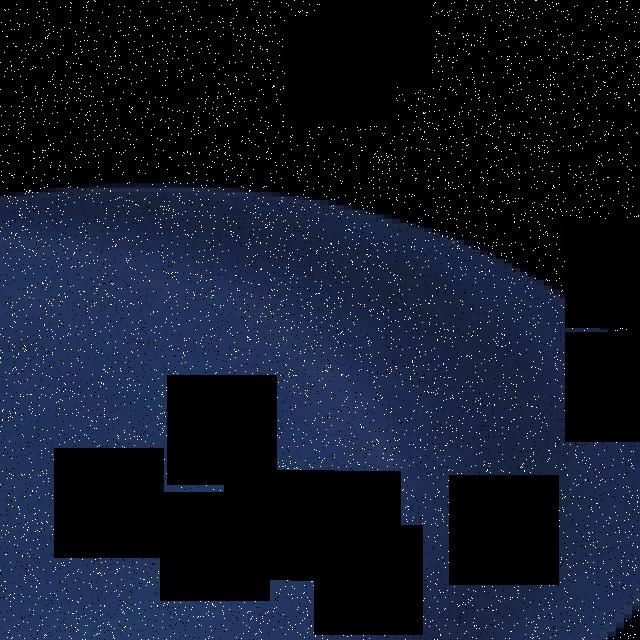Neptune: (0, 182, 640, 640)
